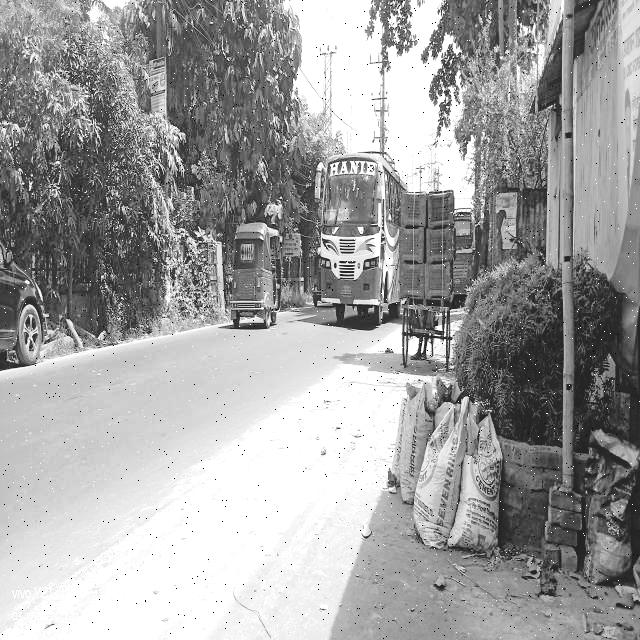Bus: (311, 144, 405, 348)
